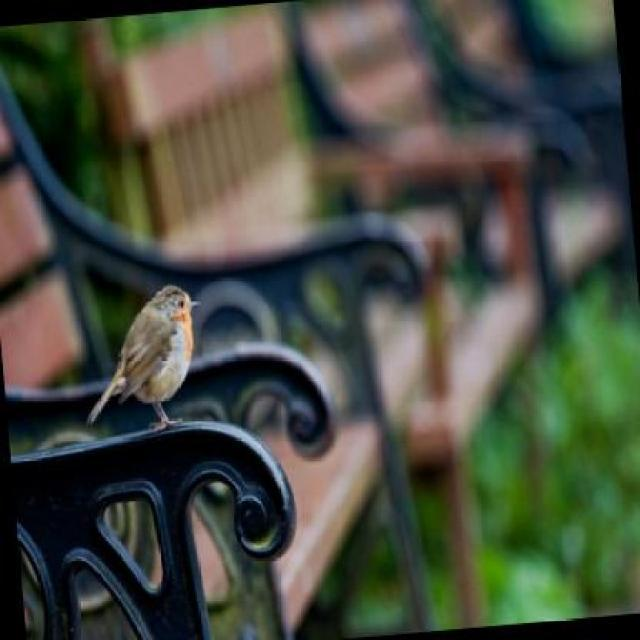Bird: (85, 282, 202, 439)
